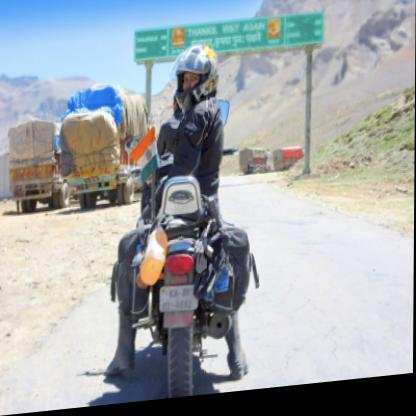With Helmet: (170, 46, 218, 116)
